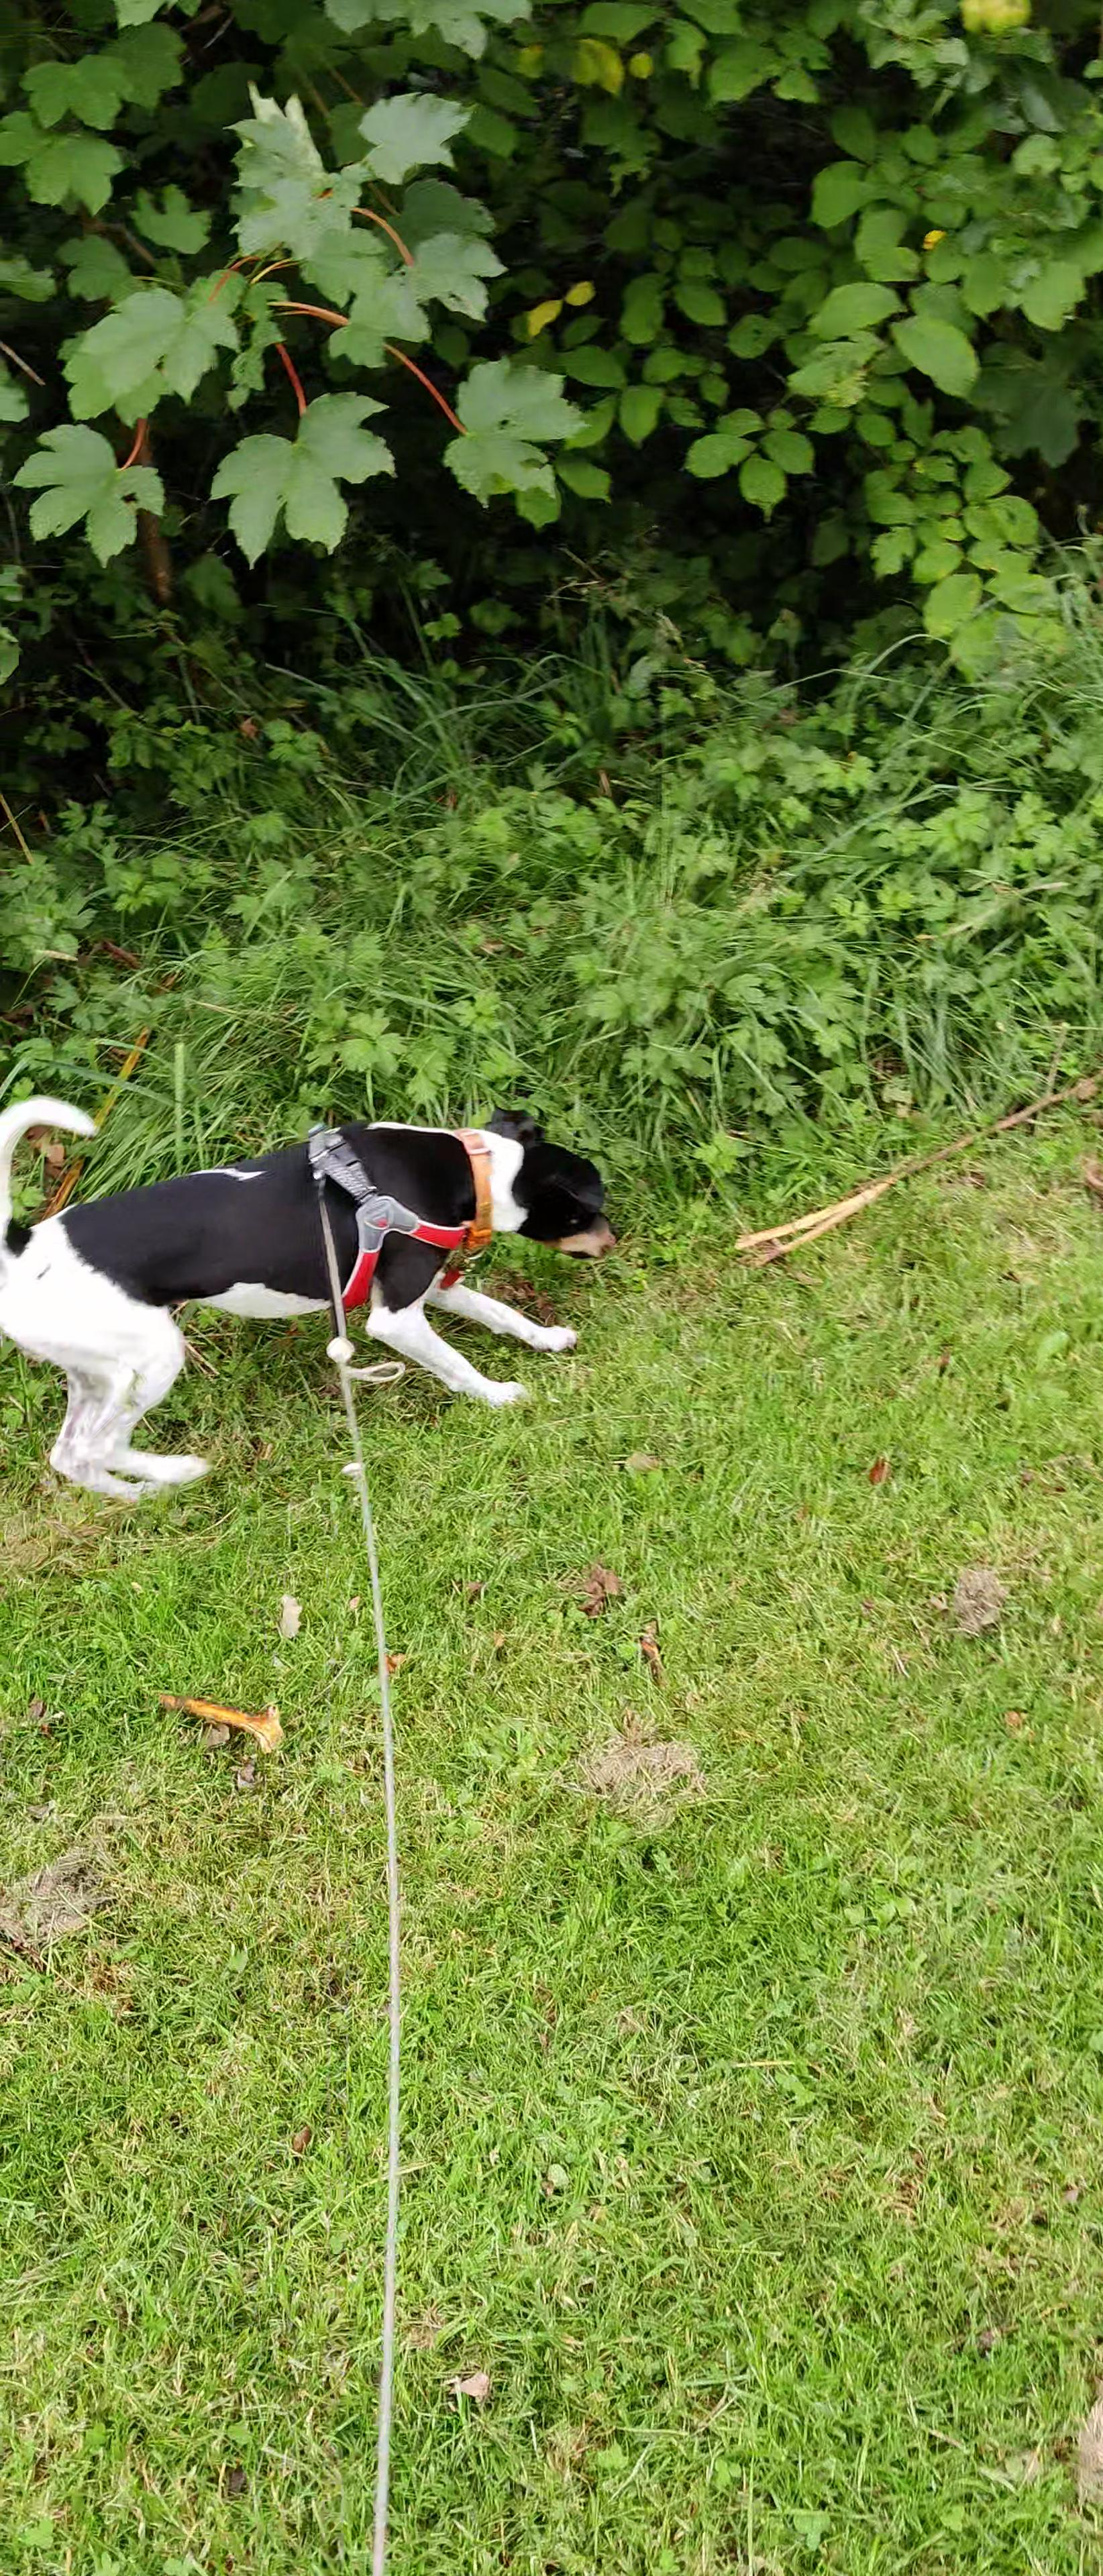Dog: (0, 1086, 641, 1511)
